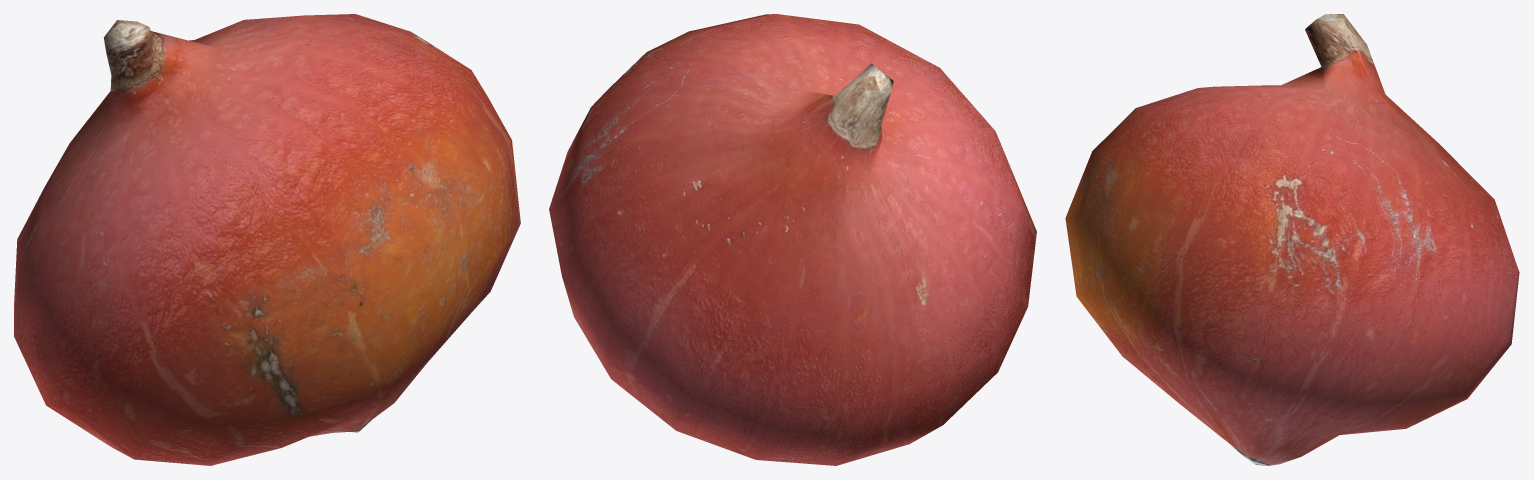
The model's file is A40_Pumpkin_low.fbx.
3 views of the same model, side by side, from view 1: azimuth 30°, elevation 25°; view 2: azimuth 150°, elevation 25°; view 3: azimuth 270°, elevation 25° (orthographic). The views are drawn at different scales.
Parts seen in each view (by area): view 1: A40_Pumpkin_low; view 2: A40_Pumpkin_low; view 3: A40_Pumpkin_low.
Part boxes in pixels (x1,y1,x2,y2): A40_Pumpkin_low: [14, 14, 520, 465]; A40_Pumpkin_low: [549, 14, 1036, 465]; A40_Pumpkin_low: [1065, 14, 1519, 465].
Size of the model in its own units: 20.18 by 20.43 by 18.4.
Materials: 1 (1 with a texture image).
